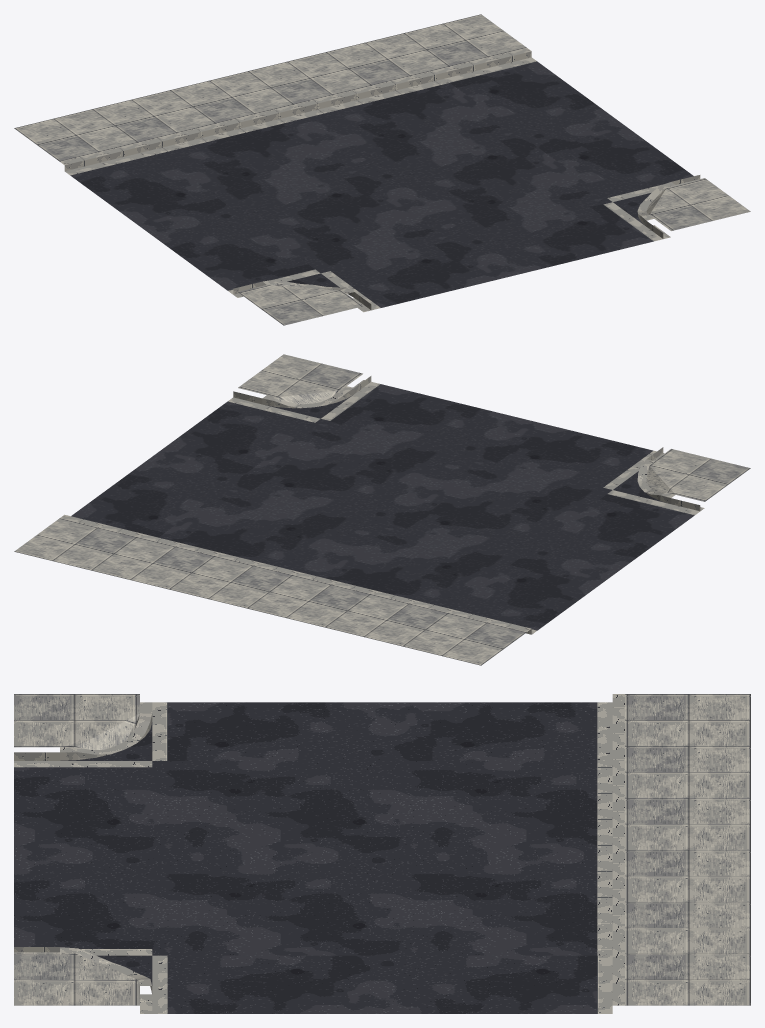
The model's file is RD_Intersection_T_12m.obj.
3 views of the same model, one above another, from view 1: azimuth 30°, elevation 25°; view 2: azimuth 150°, elevation 25°; view 3: azimuth 270°, elevation 25° (orthographic). The views are drawn at different scales.
Visible parts, largest first — view 1: RD_Intersection_T_12m_Mesh_M_Road_Asphalt, RD_Intersection_T_12m_Mesh_M_Road_SidewalkConcrete, RD_Intersection_T_12m_Mesh_M_Road_CurbConcrete; view 2: RD_Intersection_T_12m_Mesh_M_Road_Asphalt, RD_Intersection_T_12m_Mesh_M_Road_SidewalkConcrete, RD_Intersection_T_12m_Mesh_M_Road_CurbConcrete; view 3: RD_Intersection_T_12m_Mesh_M_Road_Asphalt, RD_Intersection_T_12m_Mesh_M_Road_SidewalkConcrete, RD_Intersection_T_12m_Mesh_M_Road_CurbConcrete.
Boxes of the visible parts, x1,y1,x2,y2 form: RD_Intersection_T_12m_Mesh_M_Road_Asphalt: (70, 61, 693, 307); RD_Intersection_T_12m_Mesh_M_Road_SidewalkConcrete: (14, 14, 750, 325); RD_Intersection_T_12m_Mesh_M_Road_CurbConcrete: (60, 48, 700, 312); RD_Intersection_T_12m_Mesh_M_Road_Asphalt: (71, 384, 694, 630); RD_Intersection_T_12m_Mesh_M_Road_SidewalkConcrete: (14, 354, 750, 665); RD_Intersection_T_12m_Mesh_M_Road_CurbConcrete: (60, 376, 704, 634); RD_Intersection_T_12m_Mesh_M_Road_Asphalt: (14, 702, 597, 1013); RD_Intersection_T_12m_Mesh_M_Road_SidewalkConcrete: (14, 694, 750, 1005); RD_Intersection_T_12m_Mesh_M_Road_CurbConcrete: (14, 694, 624, 1013).
Bounding box in the file's own units: 12 × 0.15 × 12.
Materials: 3 (3 with a texture image).
